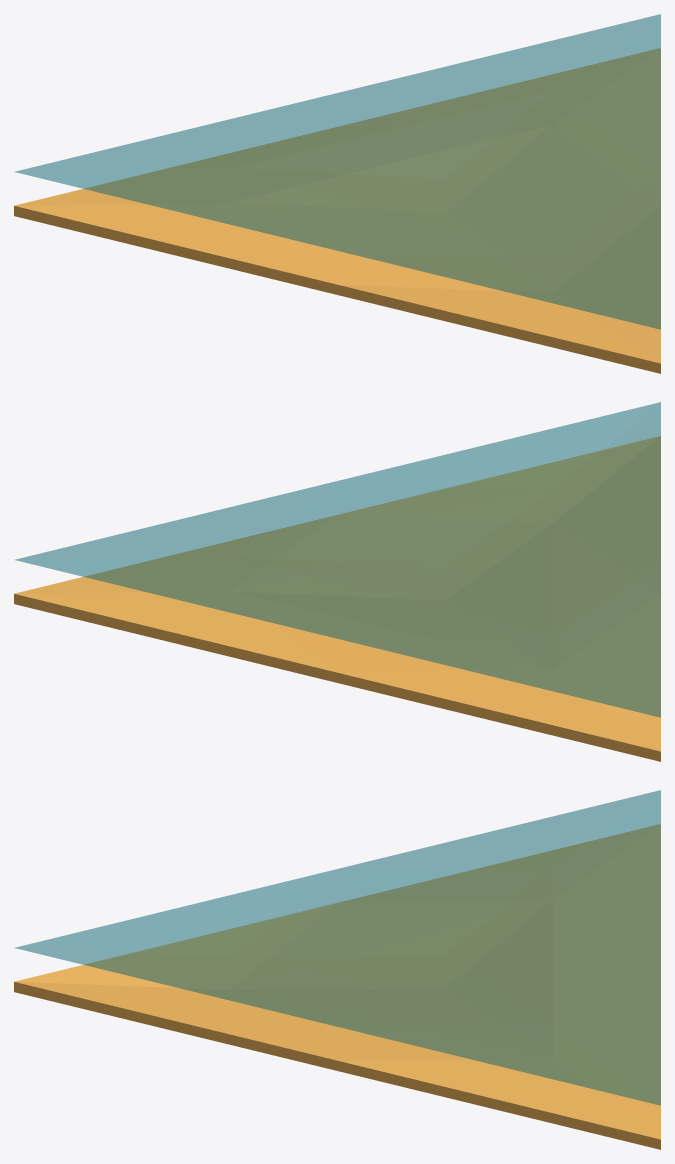
File: tile4.glb
The picture shows the model from 3 angles, top to bottom: view 1: azimuth 30°, elevation 25°; view 2: azimuth 150°, elevation 25°; view 3: azimuth 270°, elevation 25°; orthographic projection.
Parts seen in each view (by area): view 1: sand4.001, water4.007; view 2: sand4.001, water4.007; view 3: sand4.001, water4.007.
Boxes of the visible parts, left/top/right/bottom form: sand4.001: left=14, top=48, right=660, bottom=373; water4.007: left=15, top=14, right=660, bottom=329; sand4.001: left=14, top=436, right=660, bottom=761; water4.007: left=15, top=402, right=660, bottom=717; sand4.001: left=14, top=824, right=660, bottom=1149; water4.007: left=15, top=790, right=660, bottom=1105.
Bounding box in the file's own units: 1 × 0.0703 × 0.866.
